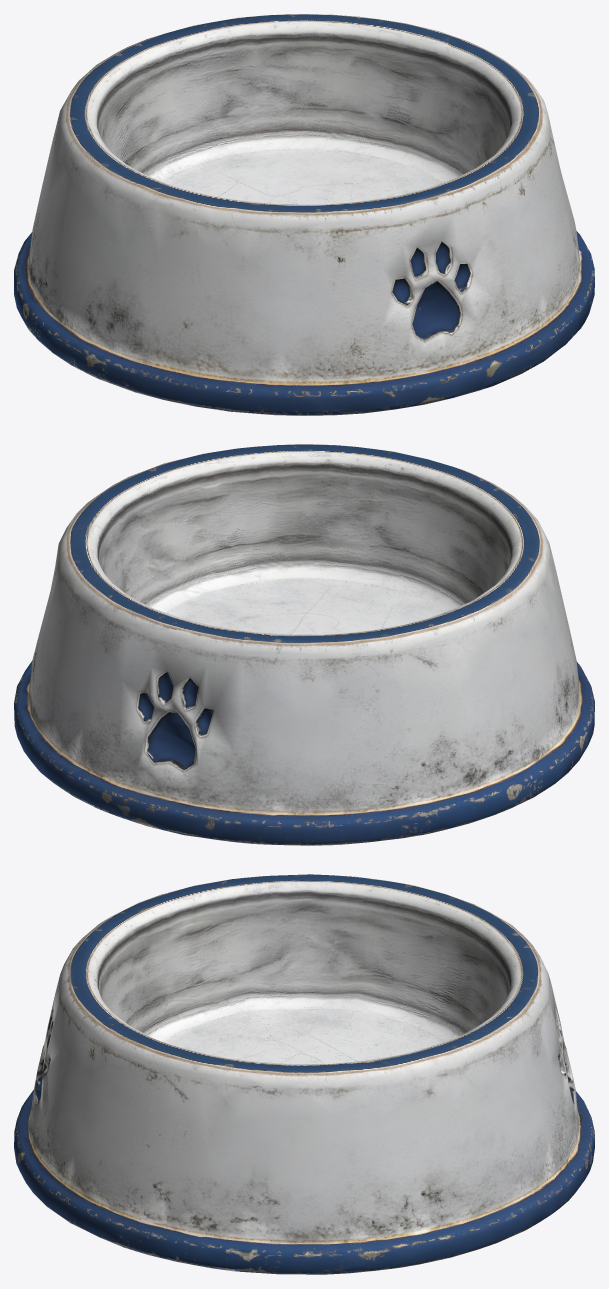
File: Meshy_AI_Blue_Rimmed_Paw_Print_0424154835_texture.fbx
The picture shows the model from 3 angles, top to bottom: view 1: azimuth 30°, elevation 25°; view 2: azimuth 150°, elevation 25°; view 3: azimuth 270°, elevation 25°; orthographic projection.
Parts seen in each view (by area): view 1: Mesh_0; view 2: Mesh_0; view 3: Mesh_0.
Part boxes in pixels (bbox=[...]): Mesh_0: bbox=[14, 14, 594, 415]; Mesh_0: bbox=[14, 444, 594, 845]; Mesh_0: bbox=[14, 874, 594, 1274].
Bounding box in the file's own units: 86.58 × 30 × 86.59.
Materials: 1 (1 with a texture image).
